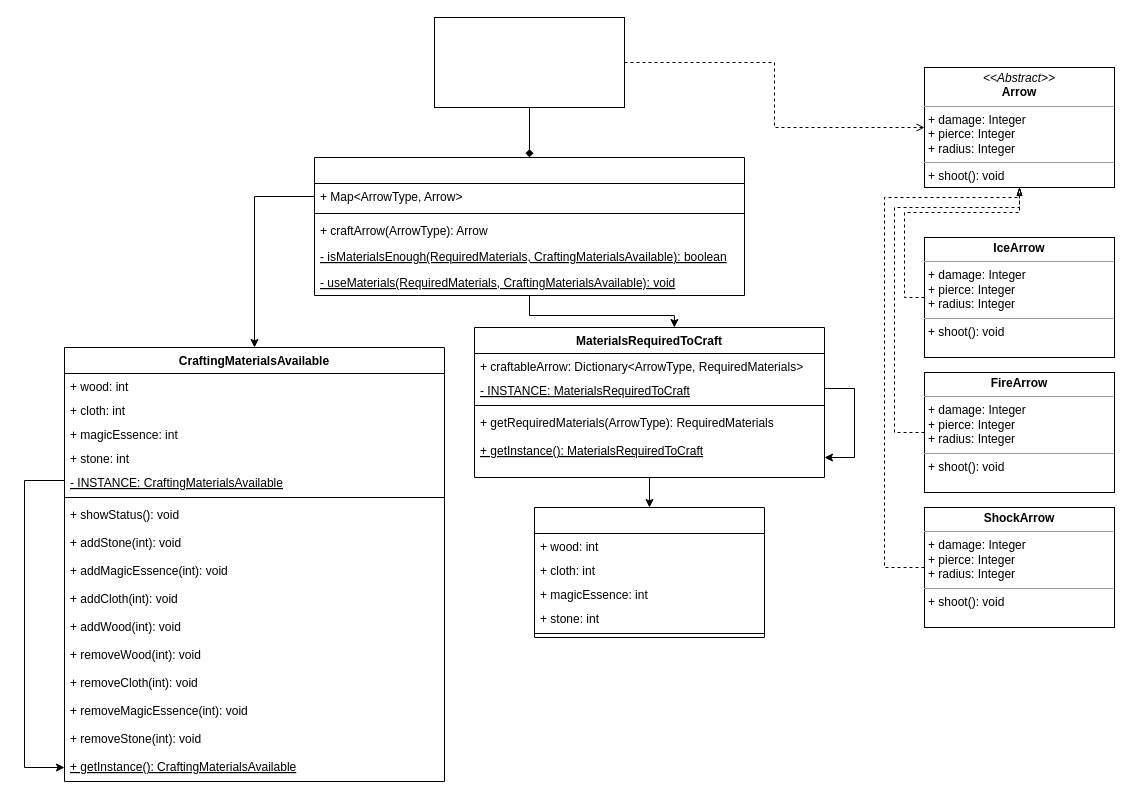
Some shapes in this 1132 by 802 pixel diagram are drawn without their labels. Here are the shapes that lost their labels. From the top down, the box of each, then its label:
(434, 16, 624, 108): <<Enumeration>> ArrowType FIRE ICE SHOCK
(314, 156, 744, 296): ArrowCrafter
(534, 506, 764, 638): RequiredMaterials
